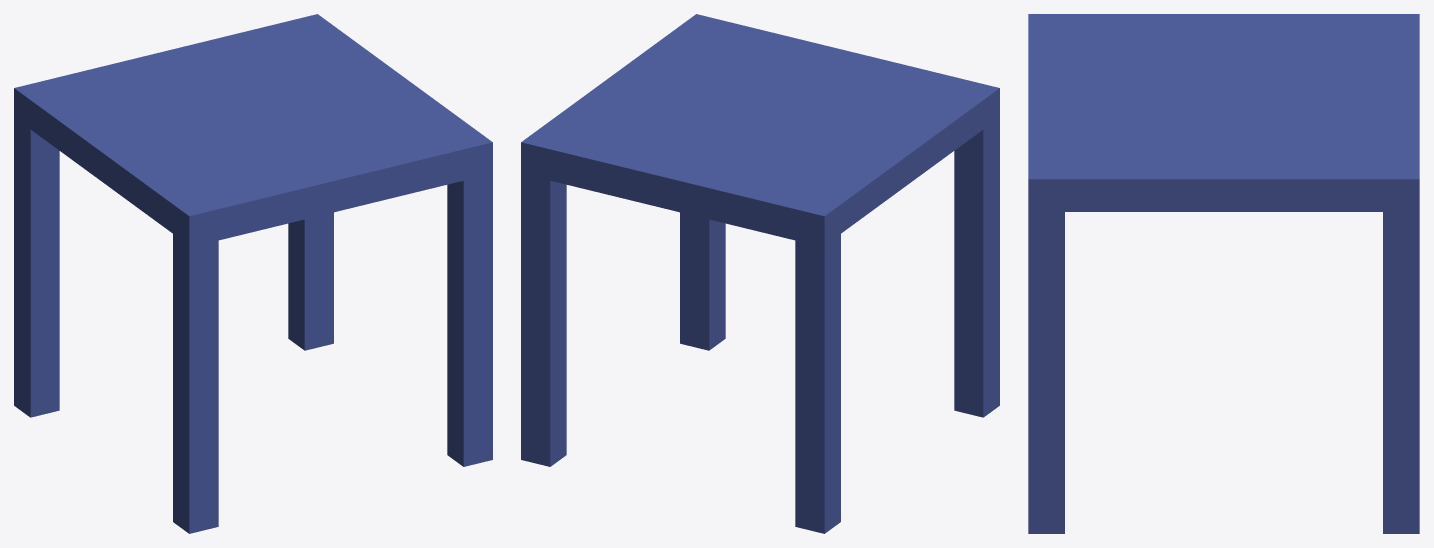
The model's file is VIS_base_link_13.dae.
3 renders of one model, left to right at view 1: azimuth 30°, elevation 25°; view 2: azimuth 150°, elevation 25°; view 3: azimuth 270°, elevation 25°, orthographic. The views are drawn at different scales.
Visible parts, largest first — view 1: VIS_base_link_13; view 2: VIS_base_link_13; view 3: VIS_base_link_13.
Part boxes in pixels (<box>): VIS_base_link_13: <box>14,14,492,533</box>; VIS_base_link_13: <box>521,14,999,533</box>; VIS_base_link_13: <box>1028,14,1419,533</box>.
Bounding box in the file's own units: 1 × 1 × 1.
